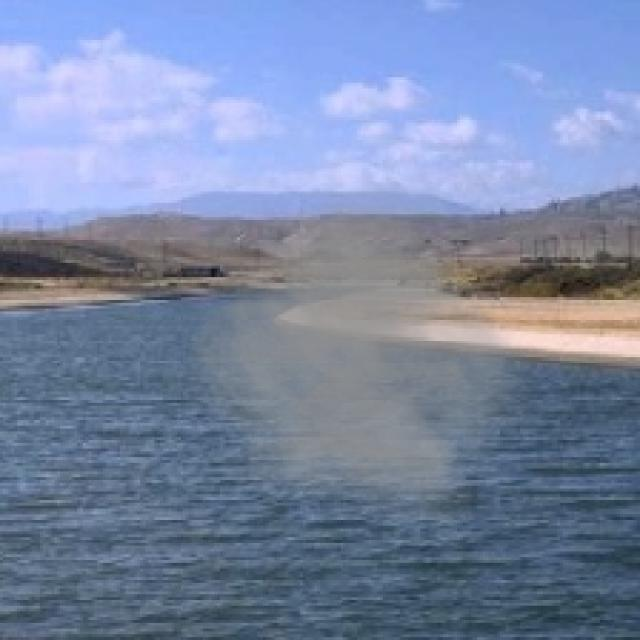Smoke: (171, 168, 543, 523)
